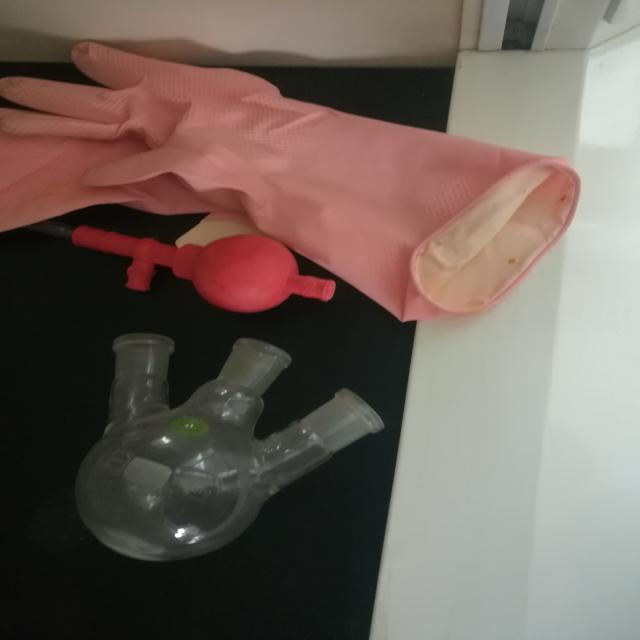Round_Bottom_Flask_Borosilicate_Glass_3_Neck: (33, 304, 404, 594)
